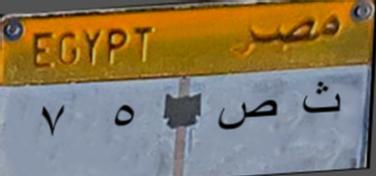5: (110, 98, 139, 136)
7: (36, 97, 68, 140)
saad: (214, 96, 280, 139)
thaa: (294, 73, 345, 118)
